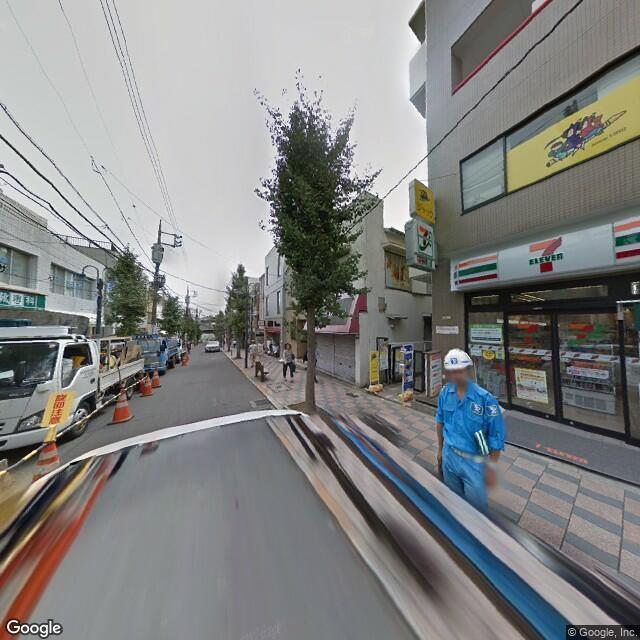7-eleven: (451, 212, 639, 295), (413, 216, 435, 258)
